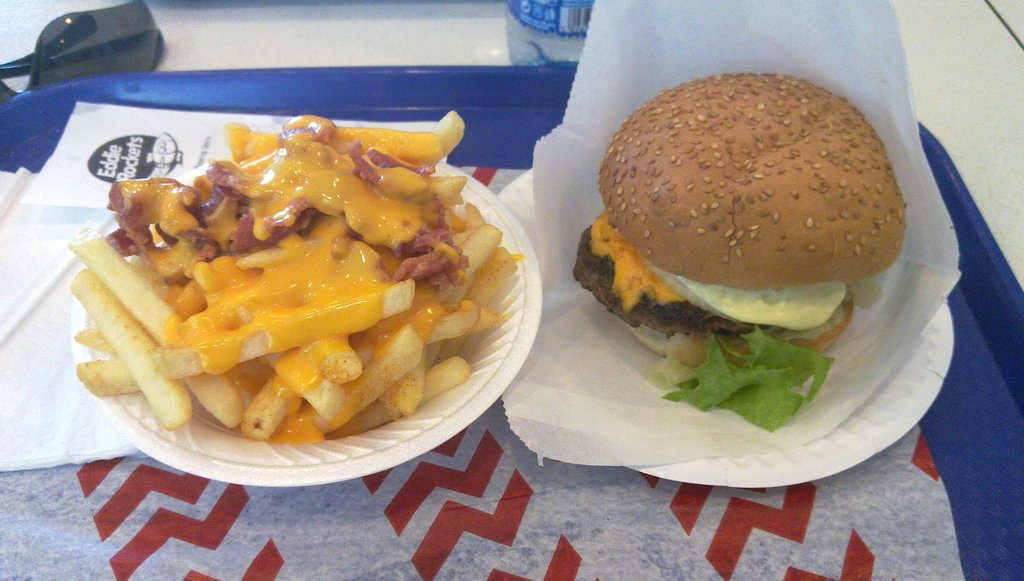French fries: (71, 110, 512, 440)
